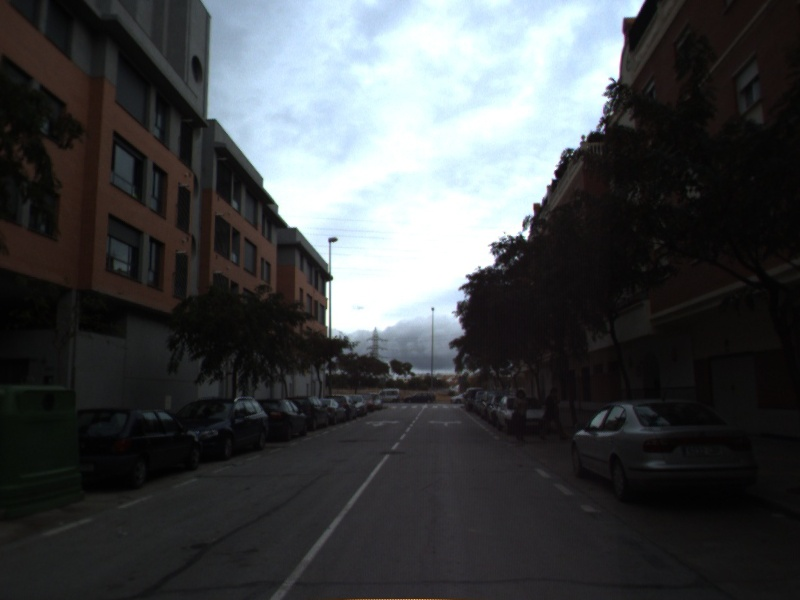LEFT_RIGHT: (426, 417, 466, 429)
